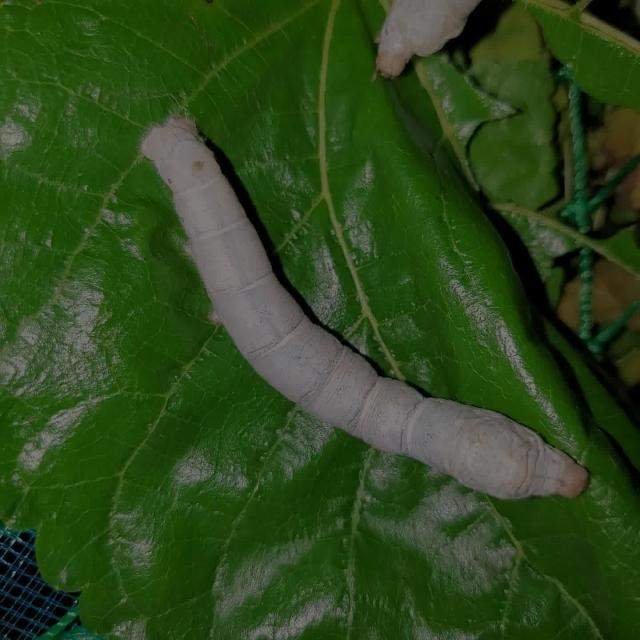Healthy: (124, 95, 602, 542)
